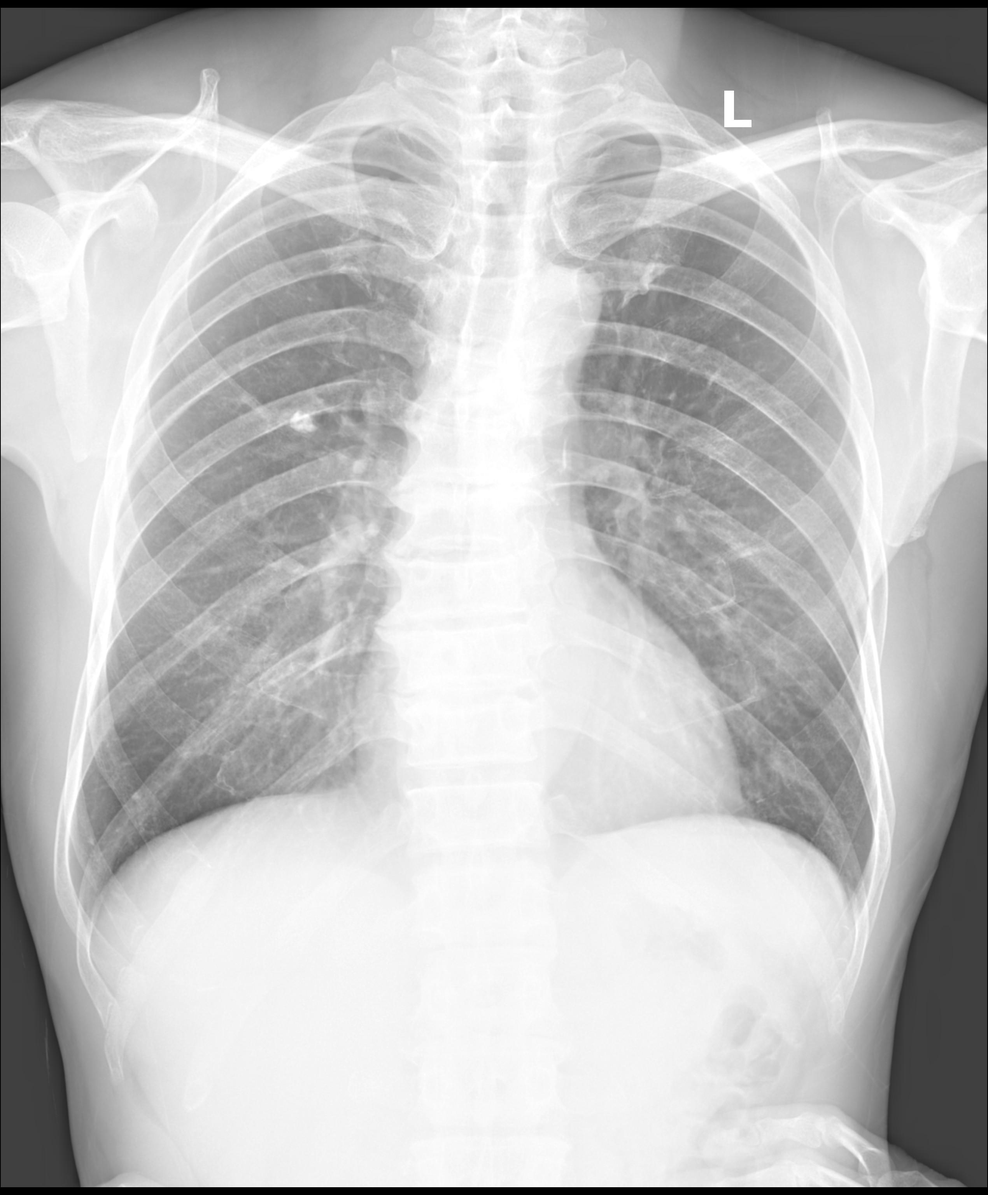Pleural thickening: (62, 885, 112, 949), (830, 866, 869, 929)
